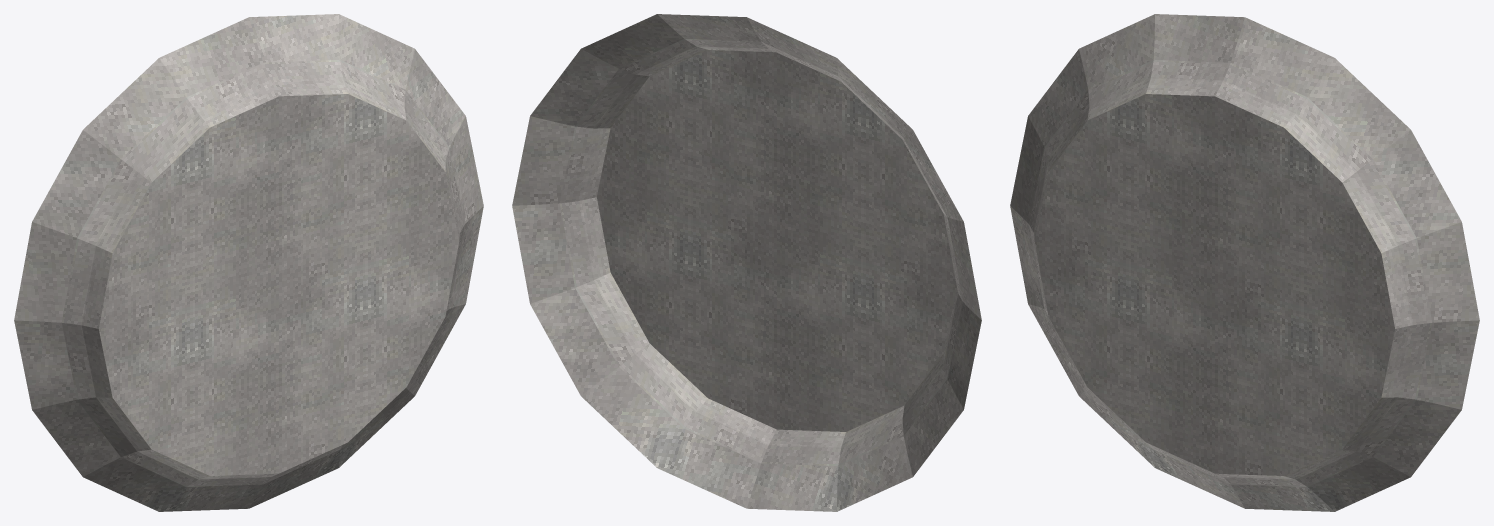
Rendered from jc-gj-151-geode.glb.
3 renders of one model, left to right at view 1: azimuth 30°, elevation 25°; view 2: azimuth 150°, elevation 25°; view 3: azimuth 330°, elevation 25°, orthographic.
Visible parts, largest first — view 1: Node; view 2: Node; view 3: Node.
Part boxes in pixels (box(x1,y1,x2,y2)): Node: box(14, 14, 483, 511); Node: box(512, 14, 981, 511); Node: box(1010, 14, 1479, 511).
Size of the model in its own units: 0.6594 by 0.6594 by 0.0731.
Materials: 1 (1 with a texture image).
